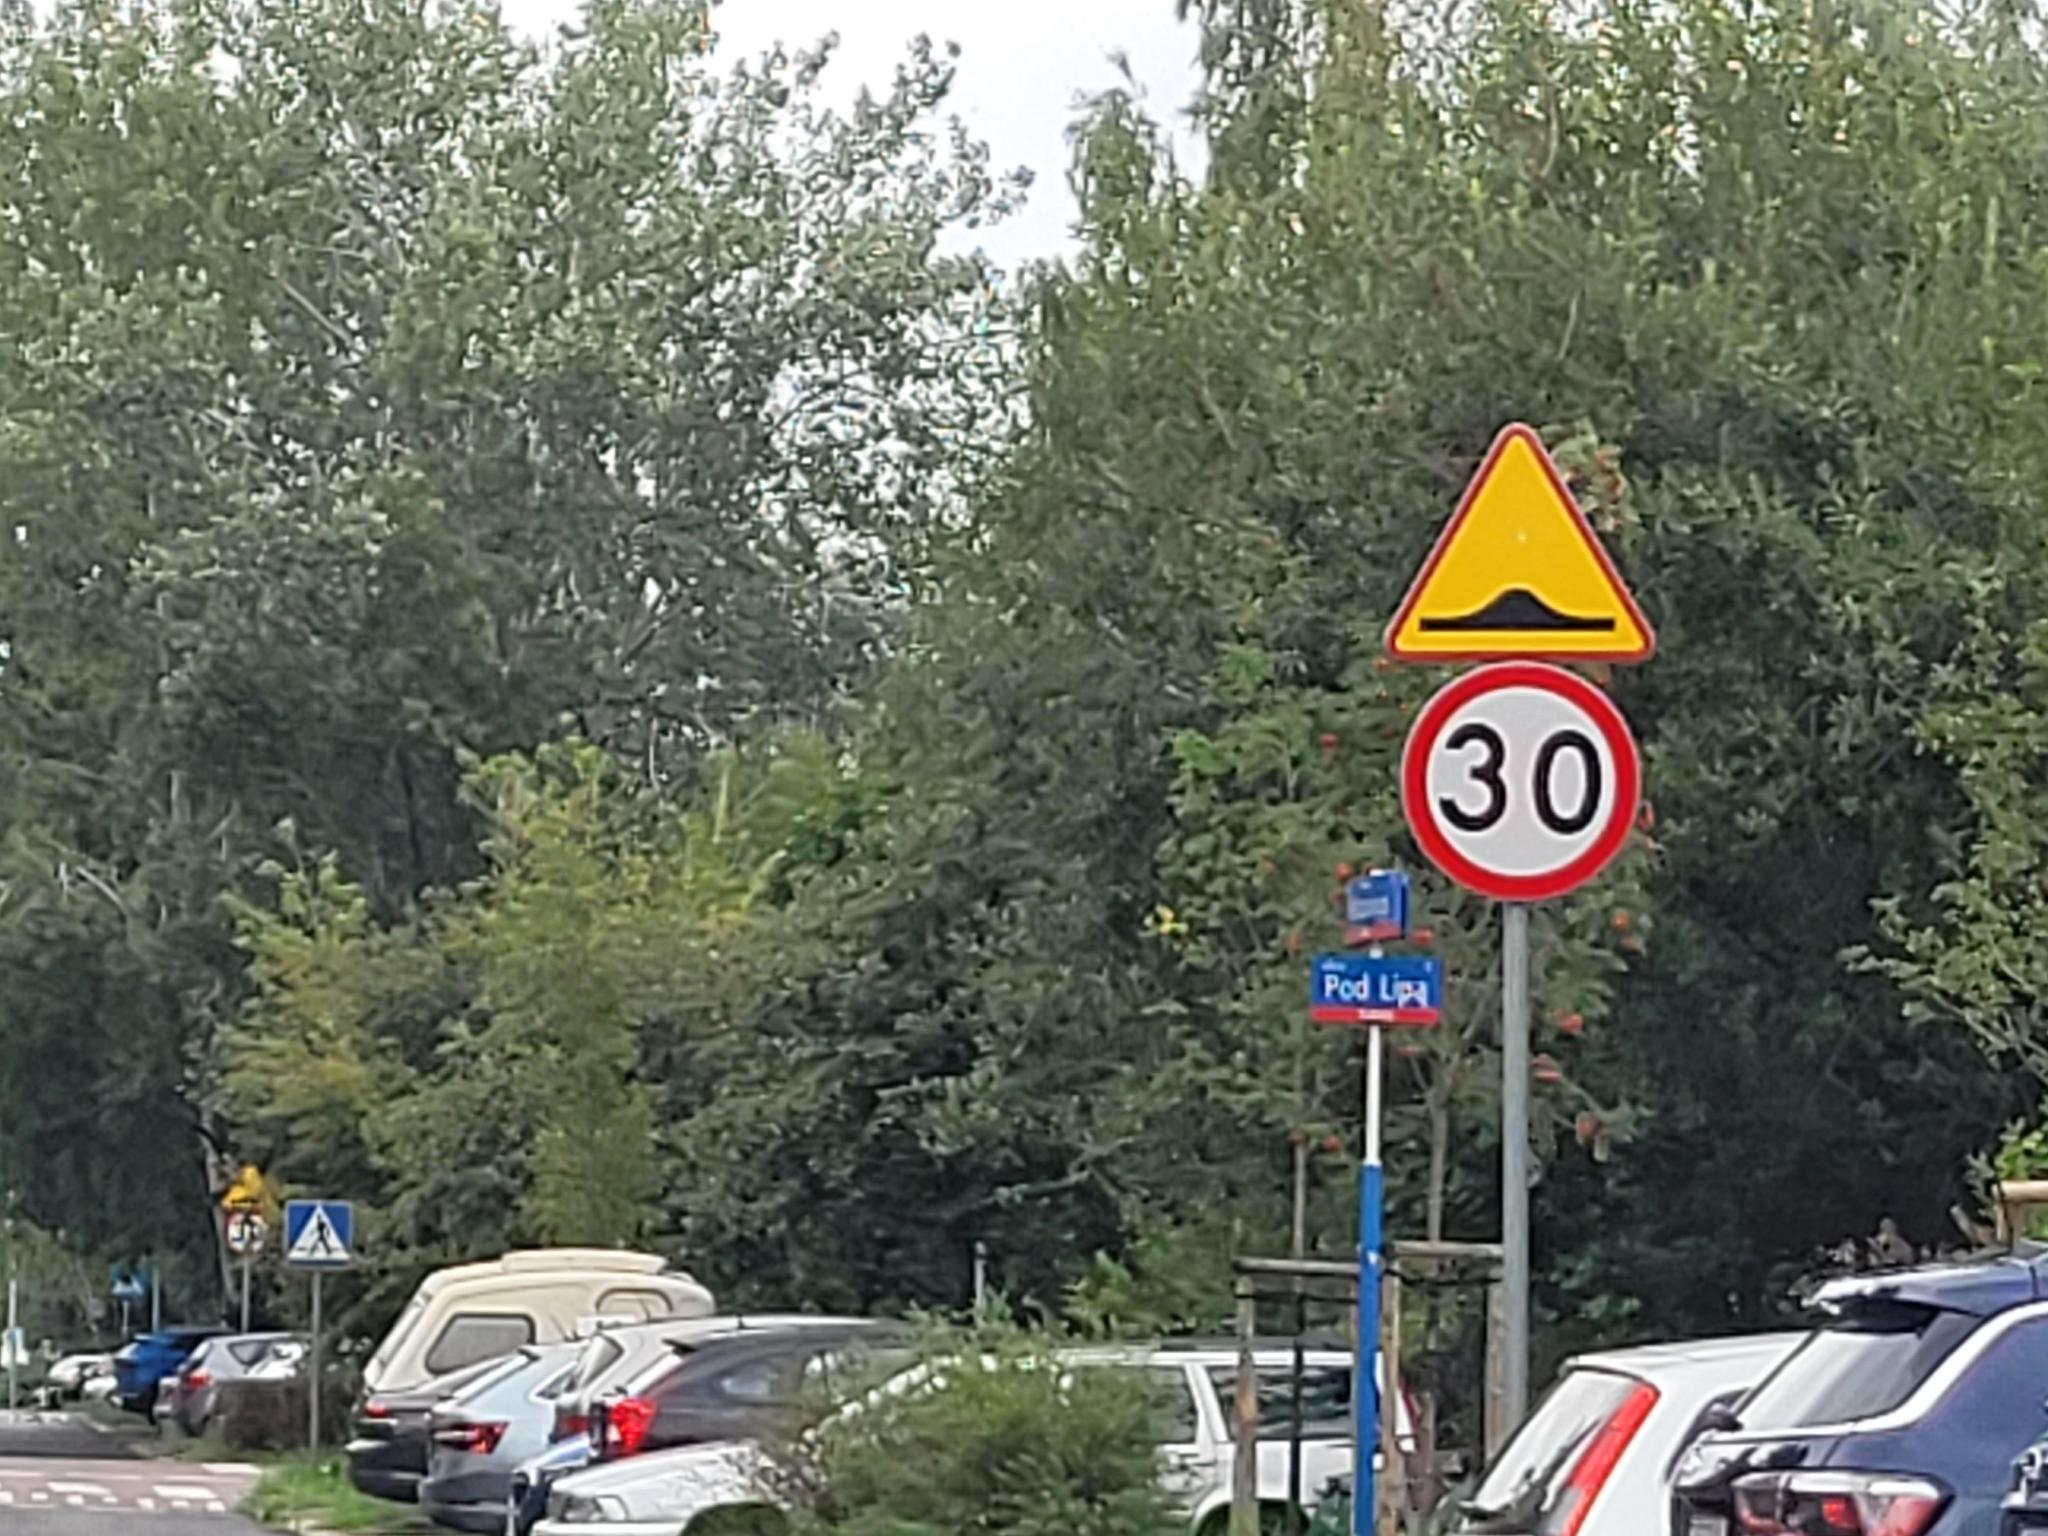information: (282, 1197, 355, 1267), (110, 1263, 145, 1299)
prohibitory: (1397, 660, 1645, 908), (226, 1212, 269, 1260)
warning: (1382, 421, 1659, 662), (224, 1165, 274, 1213)
